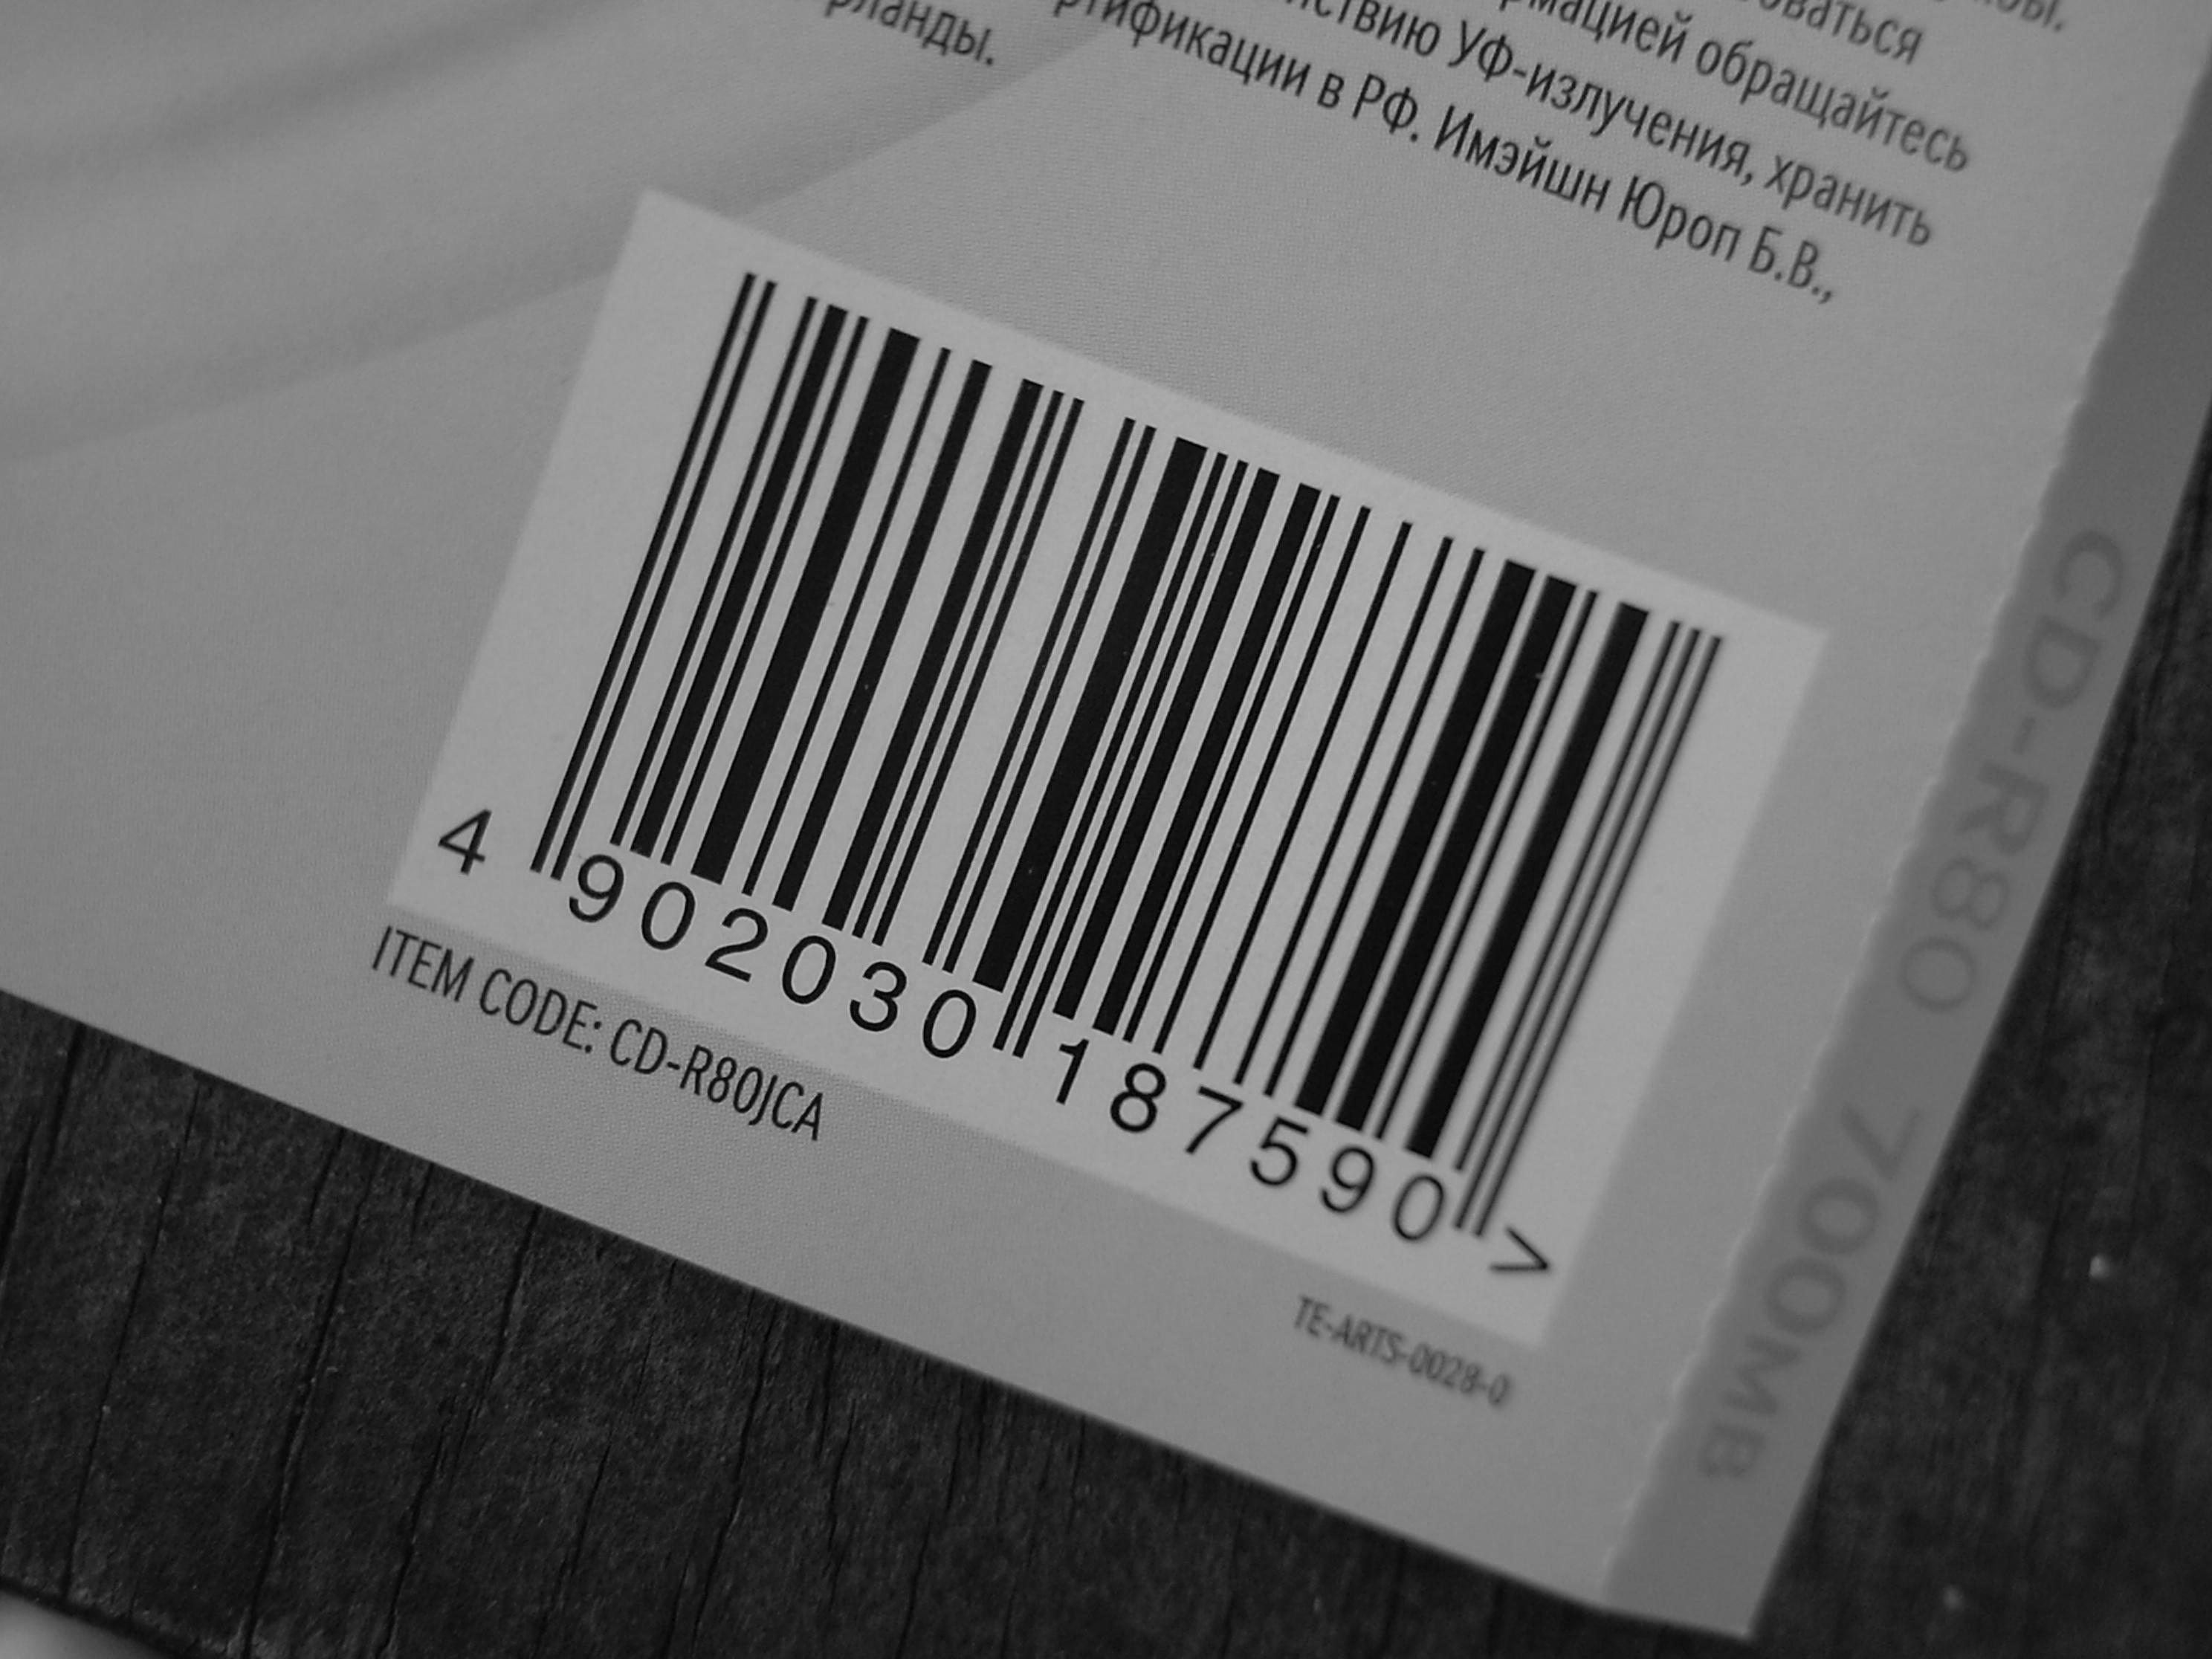Barcode: (646, 240, 1639, 1216)
